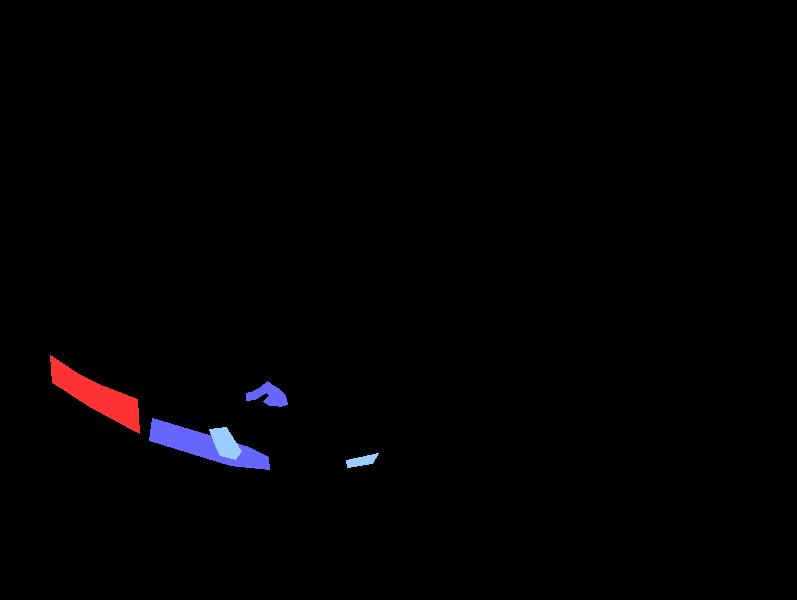Corrosion: (209, 427, 241, 459), (346, 453, 378, 467)
Missing part: (50, 355, 139, 433)
Scratch: (149, 418, 269, 469), (246, 381, 287, 406)
